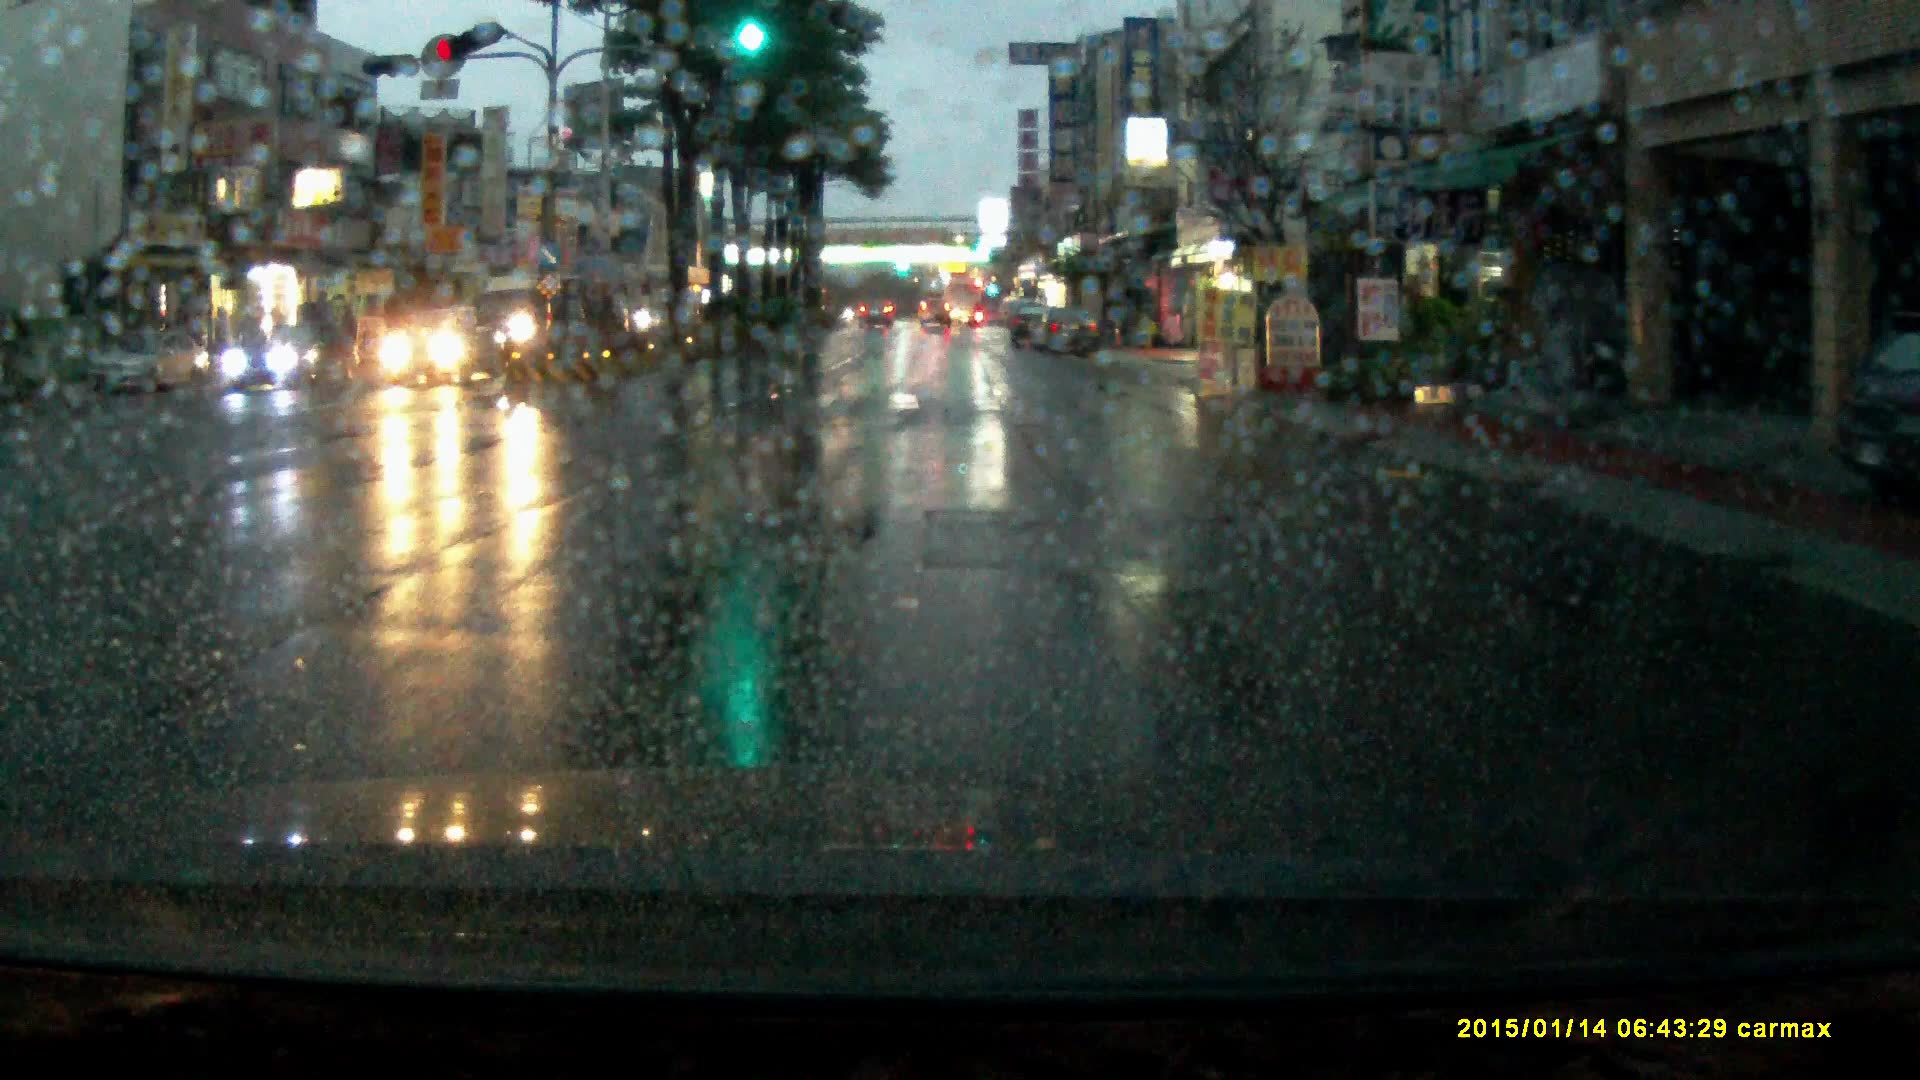vehicle: (469, 272, 589, 369), (220, 322, 357, 393), (382, 314, 504, 393), (88, 331, 216, 404), (1036, 307, 1106, 353), (1011, 303, 1058, 351), (949, 280, 986, 328), (858, 295, 897, 324), (920, 299, 952, 334)
